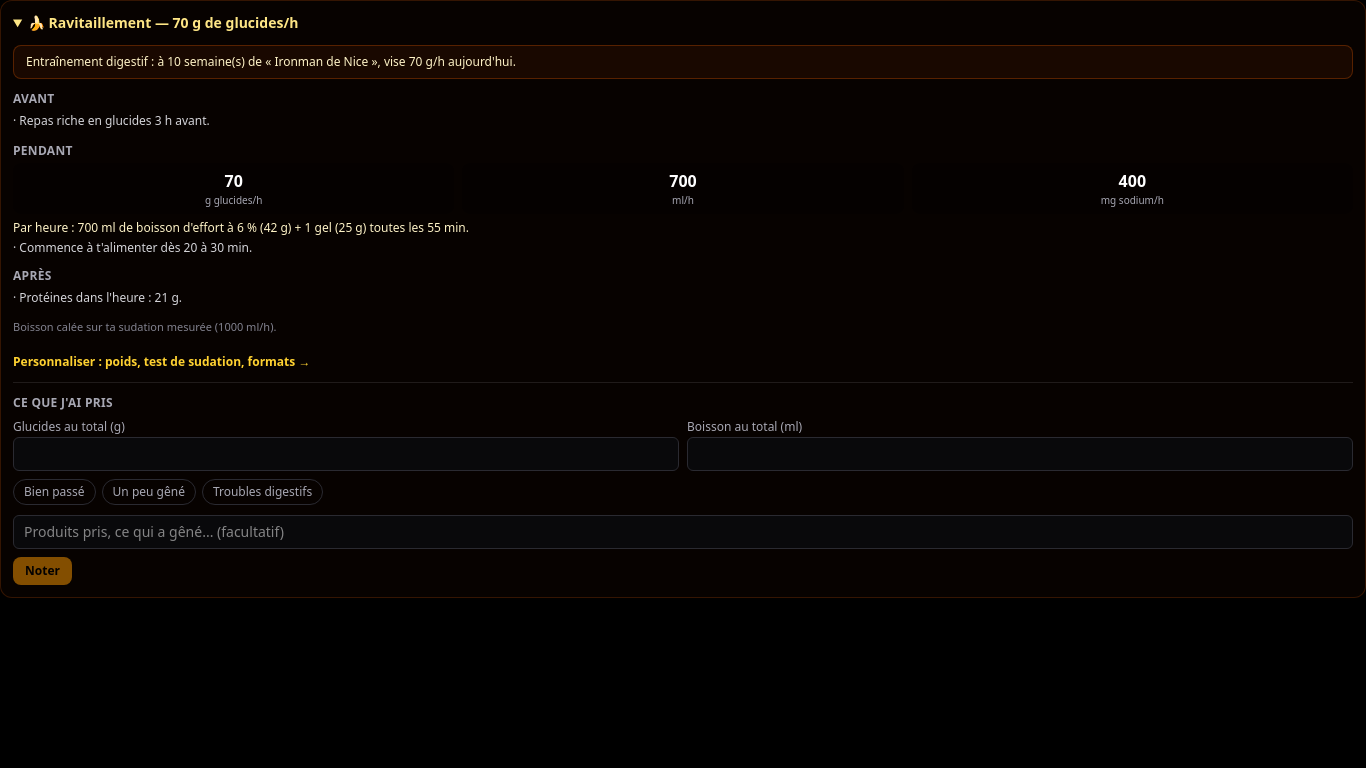
Test: ravitaillement d'une séance › note ce que l'athlète a pris et comment il l'a toléré
The width and height of the screenshot is (1366, 768).
In the number field labelled "Glucides au total (g)": point(346, 454) [13,436,679,470], type "180"
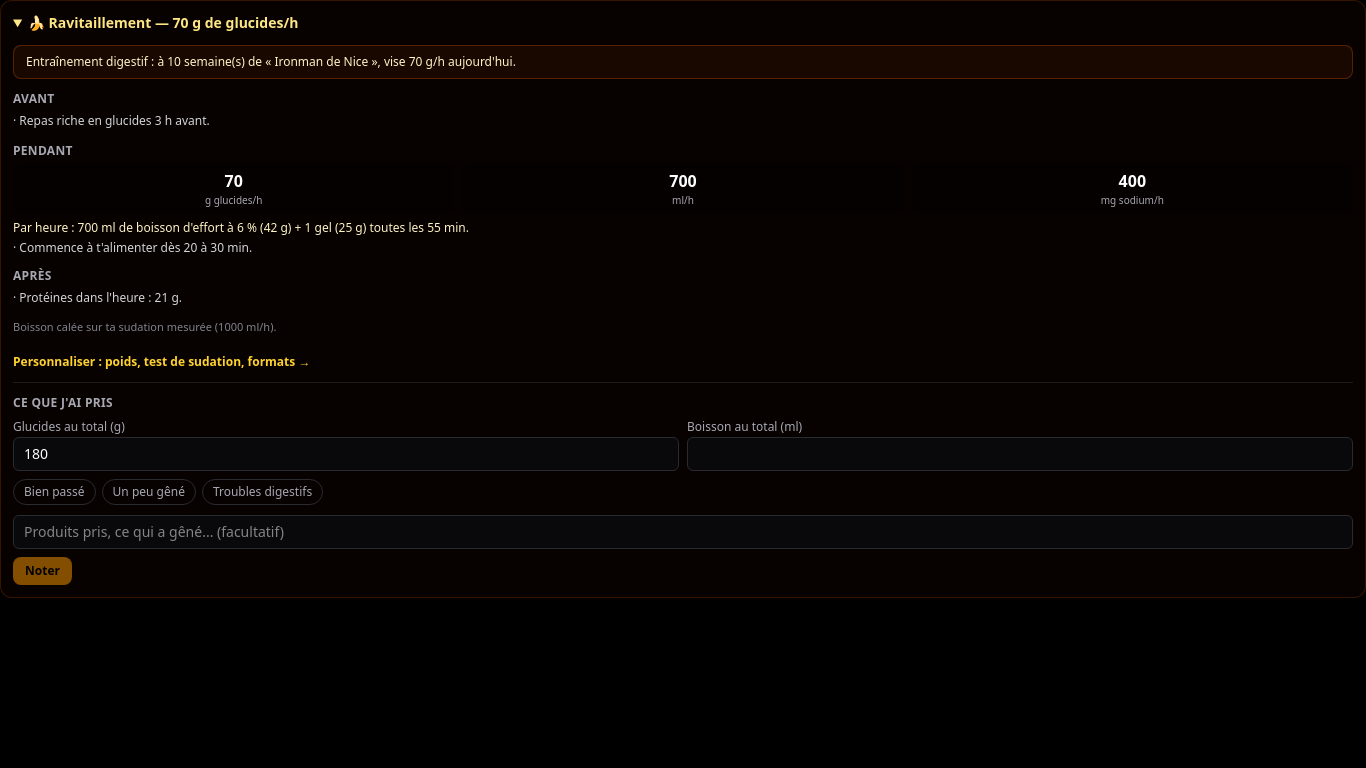
In the number field labelled "Boisson au total (ml)": point(1020, 454) [687,436,1353,470], type "2000"
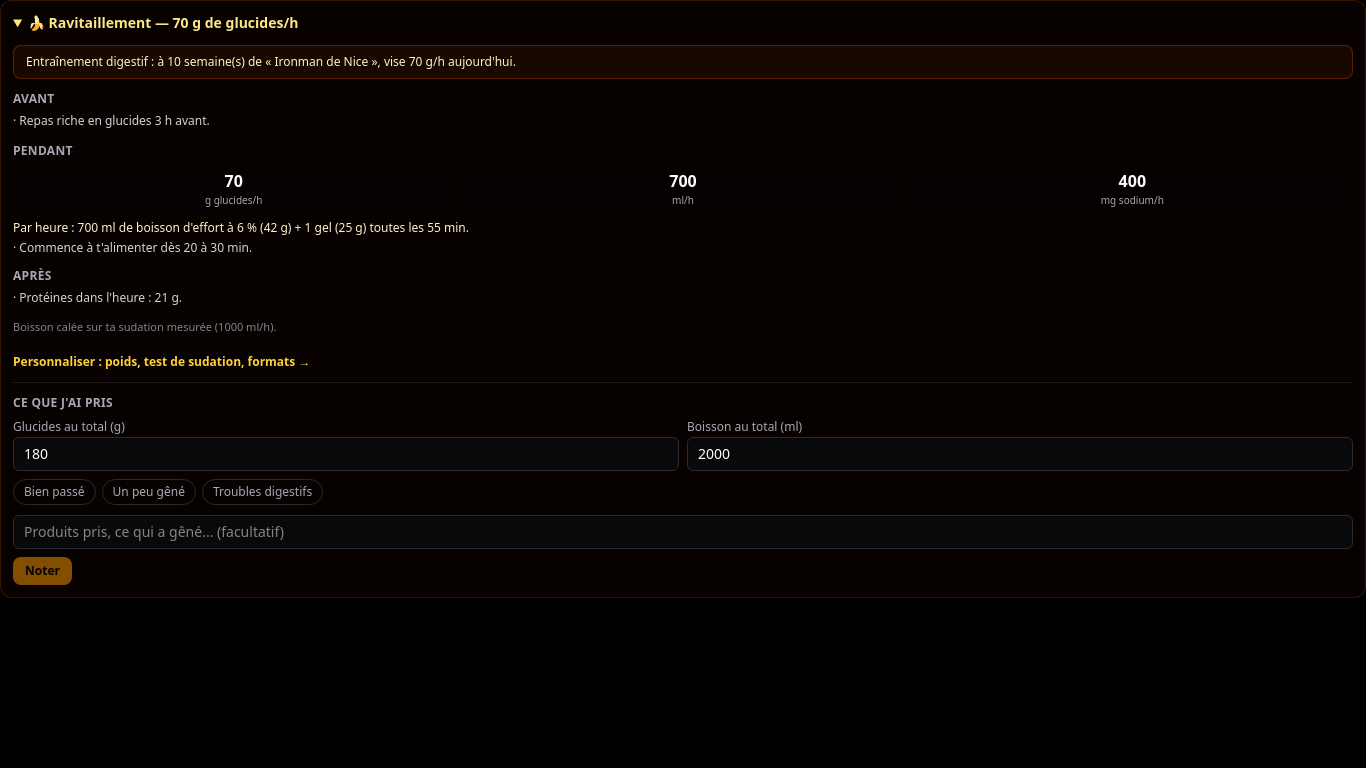
Click the button "Un peu gêné": point(149, 492) [102,478,196,504]
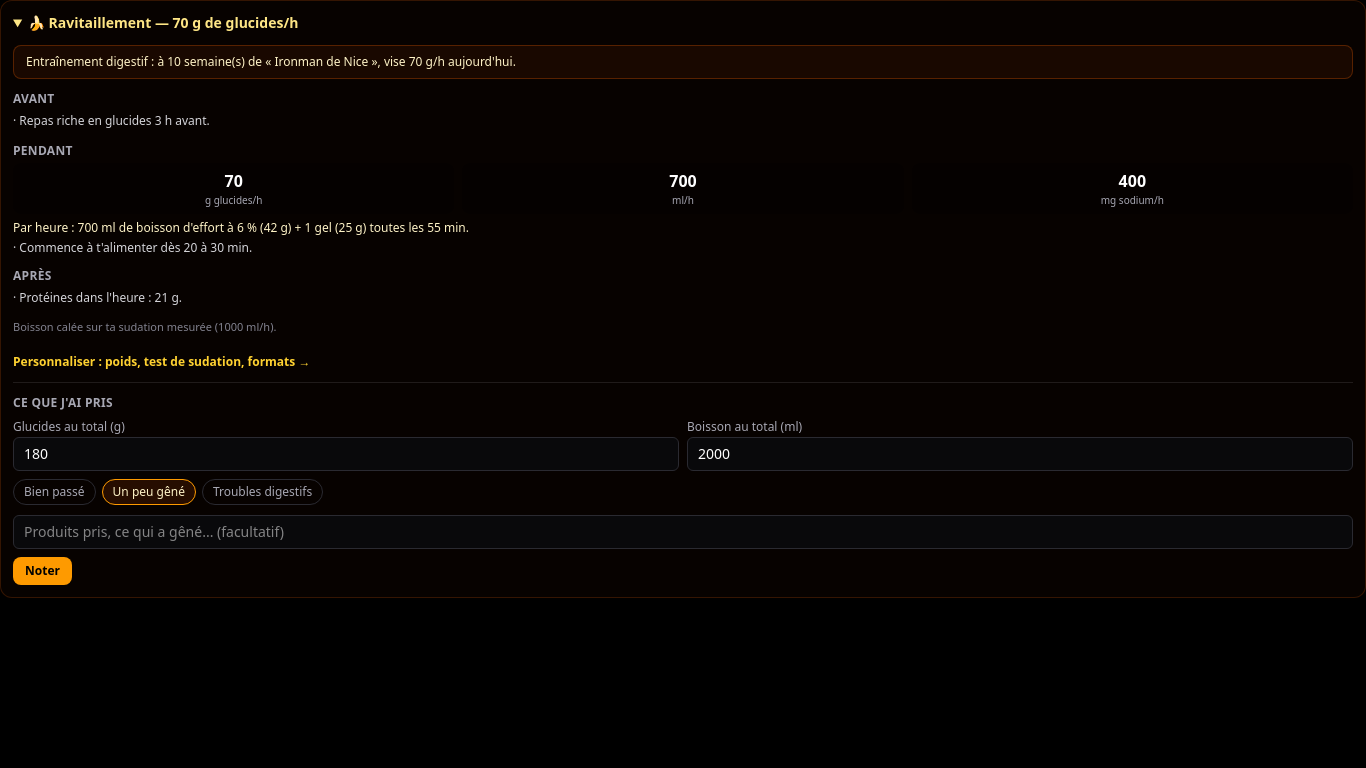
Click the button "Noter": point(42, 570) [13,556,72,584]
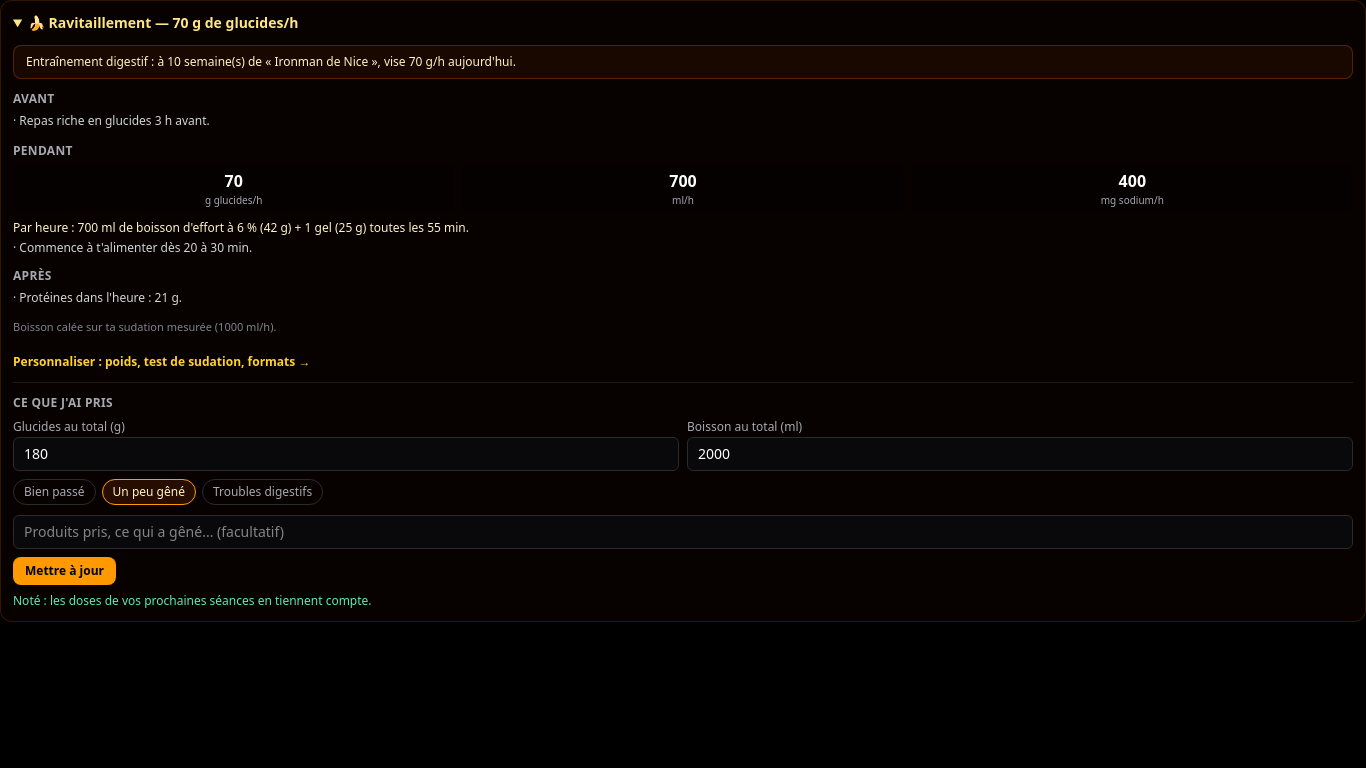
Result: the text "les doses de vos prochaines séances en tiennent compte" is shown at [13,592,372,608]
